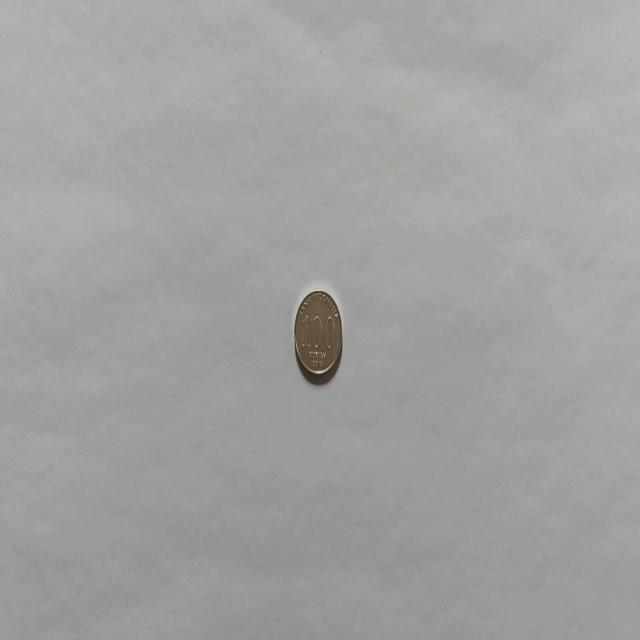seratus rupiah: (293, 288, 343, 382)
